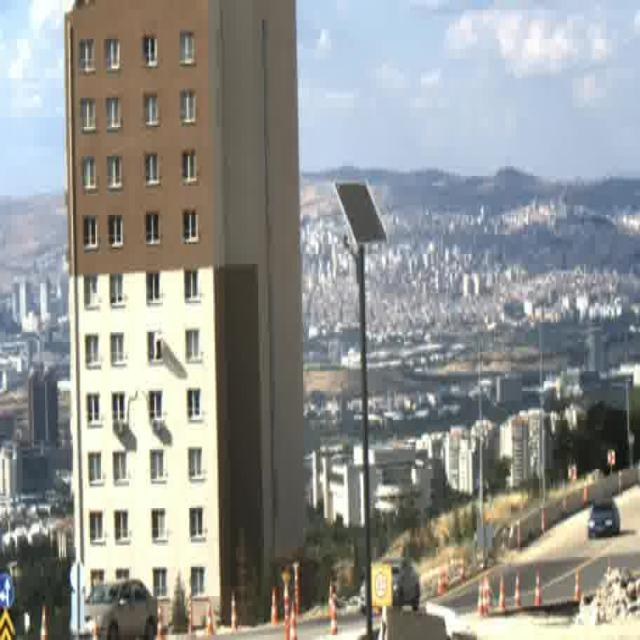Car: (71, 576, 158, 637), (361, 556, 420, 616), (588, 498, 620, 538)
